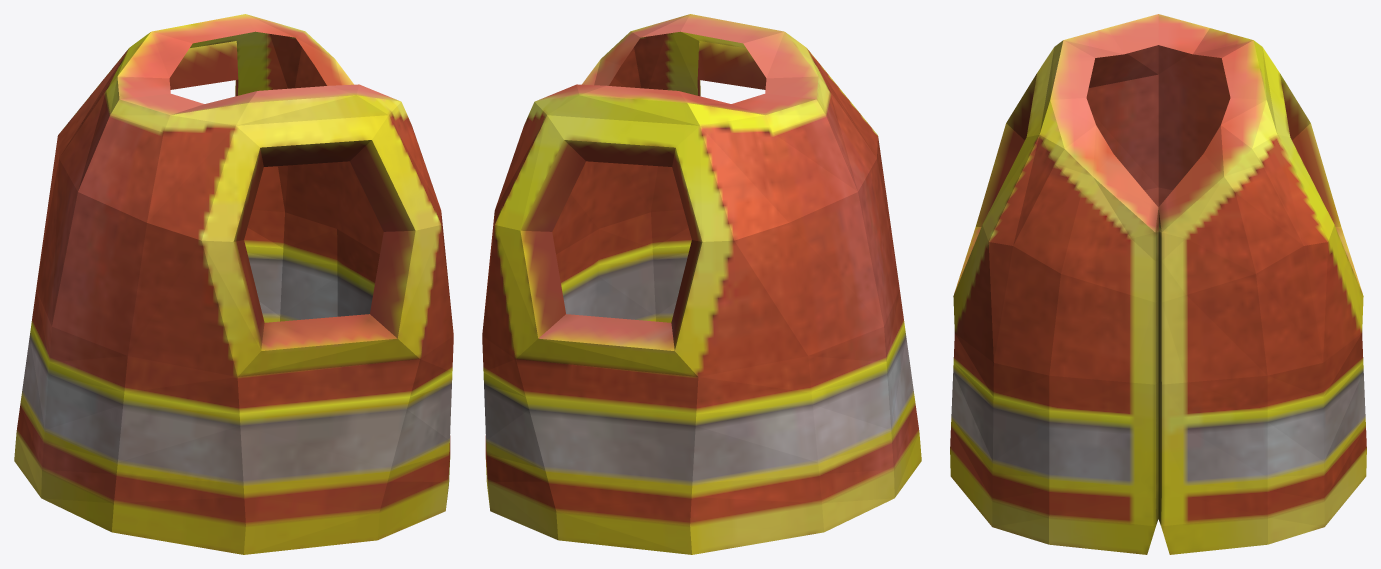
Rendered from SAFETY VEST.fbx.
3 views of the same model, side by side, from view 1: azimuth 30°, elevation 25°; view 2: azimuth 150°, elevation 25°; view 3: azimuth 270°, elevation 25° (orthographic). The views are drawn at different scales.
Visible parts, largest first — view 1: SAFETY_VEST; view 2: SAFETY_VEST; view 3: SAFETY_VEST.
Part boxes in pixels (<box>): SAFETY_VEST: <box>14,14,453,554</box>; SAFETY_VEST: <box>482,14,921,554</box>; SAFETY_VEST: <box>950,14,1366,554</box>.
Bounding box in the file's own units: 37.82 × 41.95 × 37.96.
